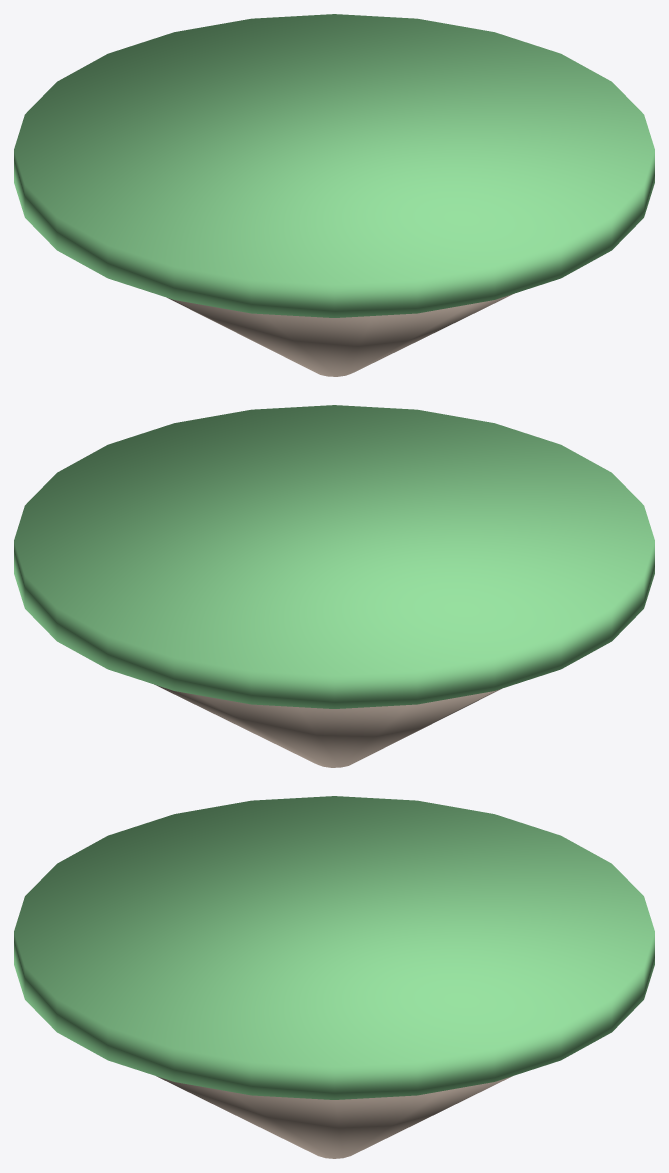
The model's file is floating_island.glb.
The picture shows the model from 3 angles, top to bottom: view 1: azimuth 30°, elevation 25°; view 2: azimuth 150°, elevation 25°; view 3: azimuth 270°, elevation 25°; orthographic projection.
Visible parts, largest first — view 1: GrassTop, RockBottom; view 2: GrassTop, RockBottom; view 3: GrassTop, RockBottom.
Part boxes in pixels (x1=…): GrassTop: x1=14, y1=14, x2=654, y2=317; RockBottom: x1=167, y1=293, x2=514, y2=376; GrassTop: x1=14, y1=405, x2=654, y2=708; RockBottom: x1=154, y1=684, x2=501, y2=767; GrassTop: x1=14, y1=796, x2=654, y2=1099; RockBottom: x1=156, y1=1076, x2=512, y2=1158.
Bounding box in the file's own units: 14 × 5.25 × 14.
